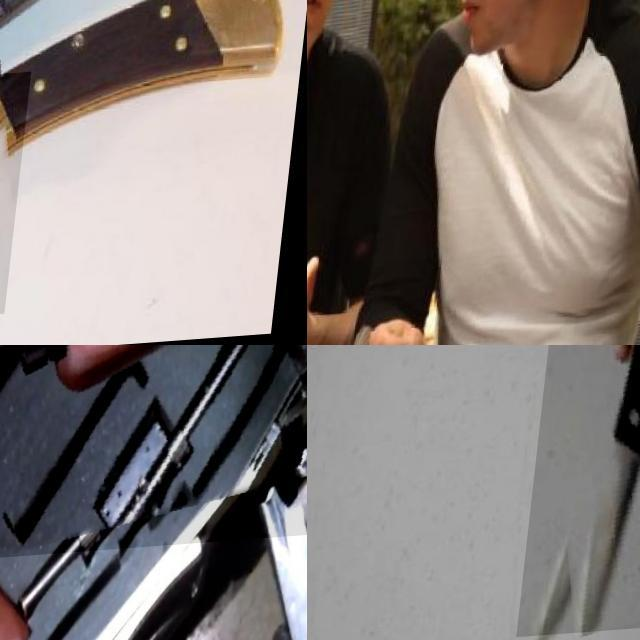-: (0, 77, 168, 338), (526, 345, 640, 640), (307, 107, 357, 322)
gun-knife-thesis - v11 Yolov5 augmented: (0, 345, 307, 574)
